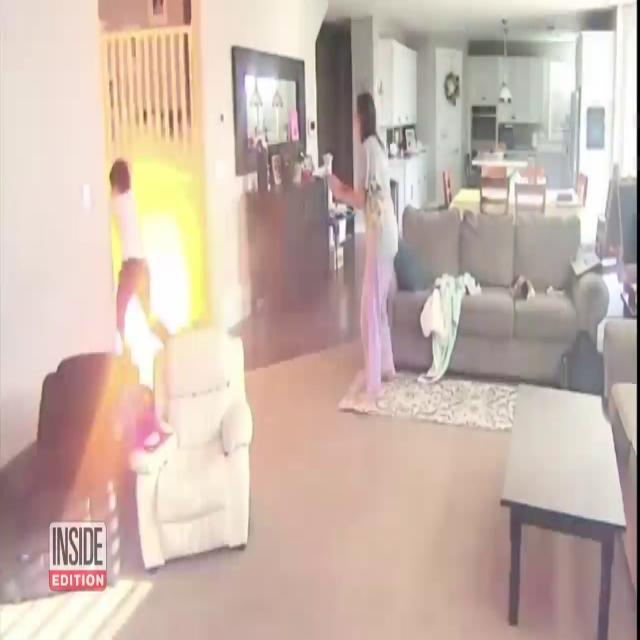Fire: (112, 163, 206, 385)
